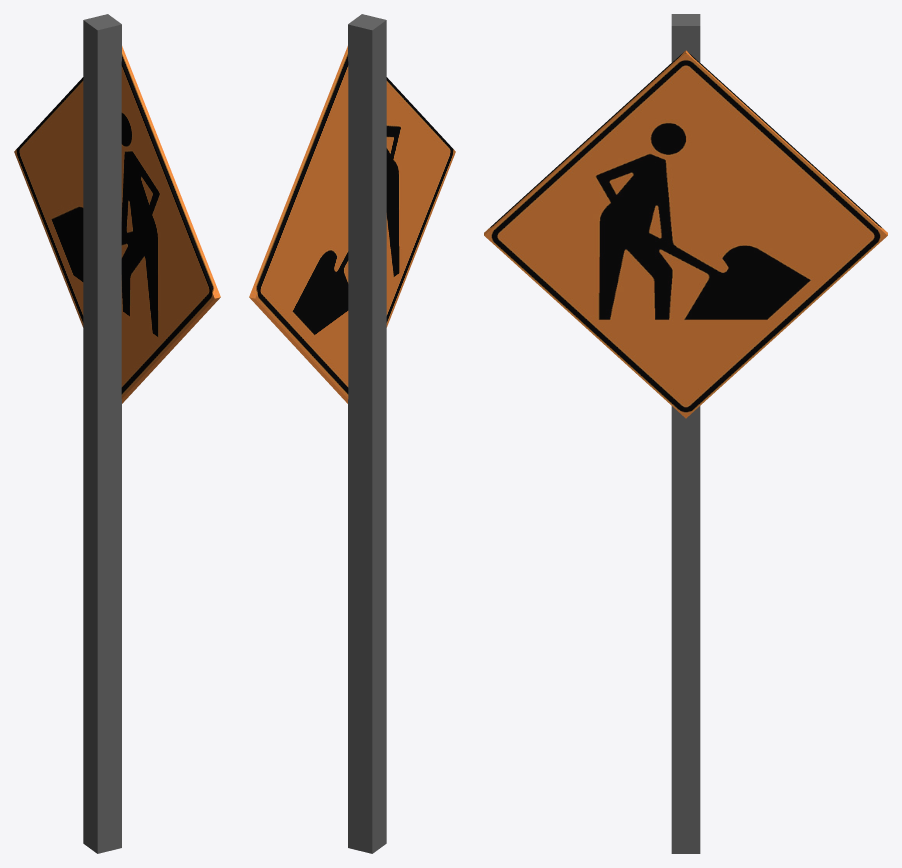
Rendered from sign-road-work-ahead.fbx.
3 views of the same model, side by side, from view 1: azimuth 30°, elevation 25°; view 2: azimuth 150°, elevation 25°; view 3: azimuth 270°, elevation 25° (orthographic).
Parts seen in each view (by area): view 1: post, sign; view 2: post, sign; view 3: sign, post.
Part boxes in pixels (x1,y1,x2,y2): post: (83,14,121,853); sign: (14,46,220,403); post: (348,14,386,853); sign: (249,46,455,403); sign: (484,50,887,418); post: (671,14,700,853).
Size of the model in its own units: 12.25 by 320 by 141.
Materials: 2 (1 with a texture image).
